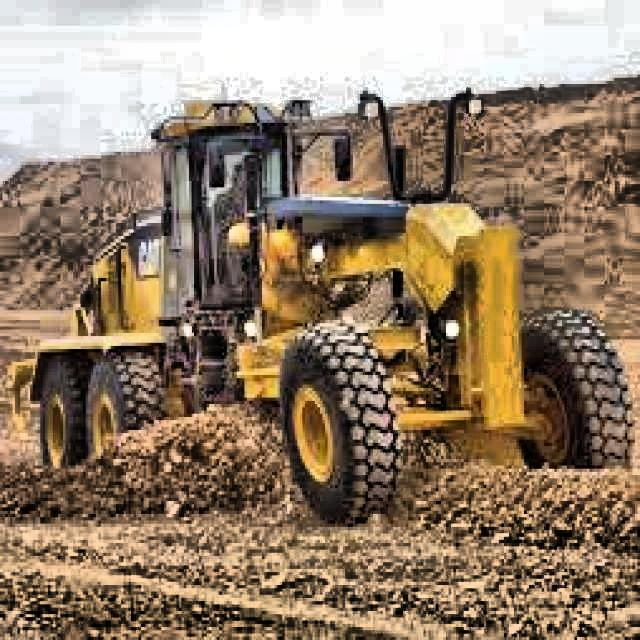bull_dozer/loader/grader: (8, 75, 640, 532)
person: (218, 156, 252, 230)
